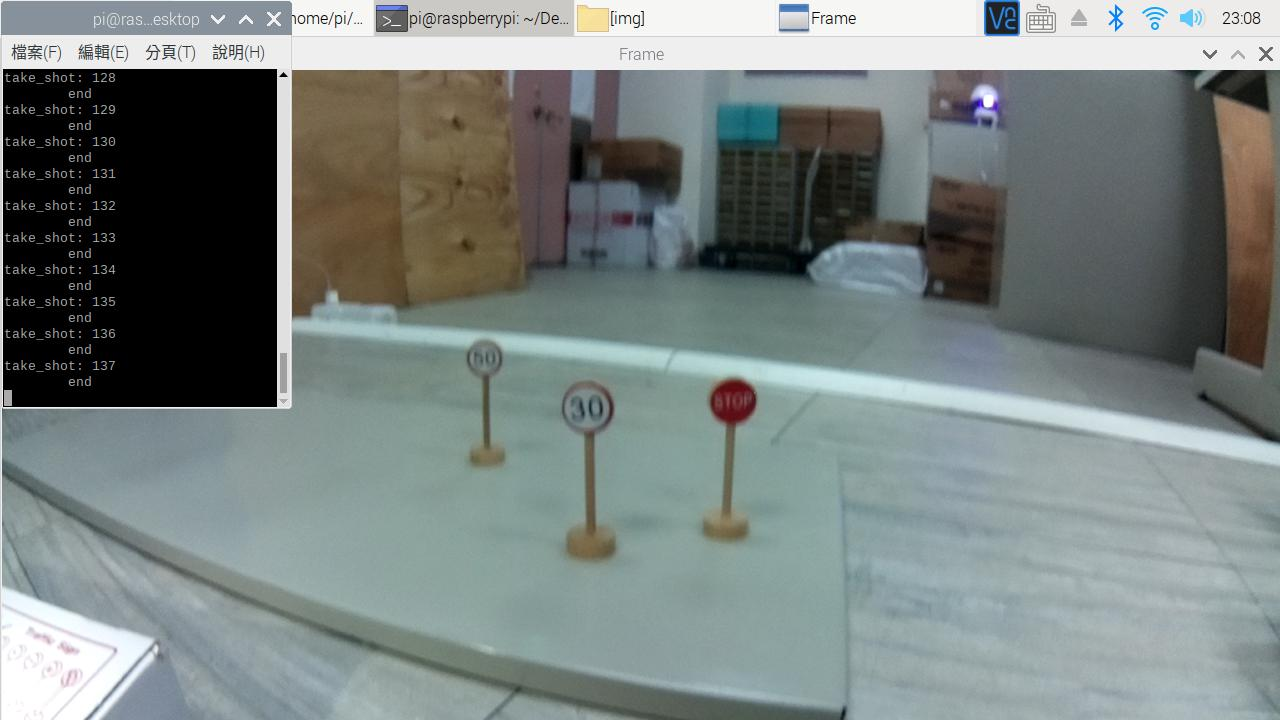Speed30: (557, 381, 629, 452)
Speed50: (453, 339, 516, 394)
Stop: (695, 369, 774, 446)
